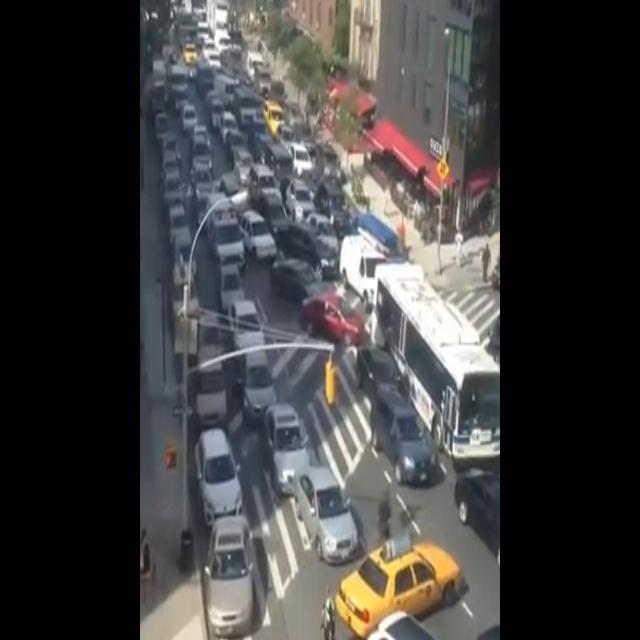Ambulance: (203, 188, 248, 267)
